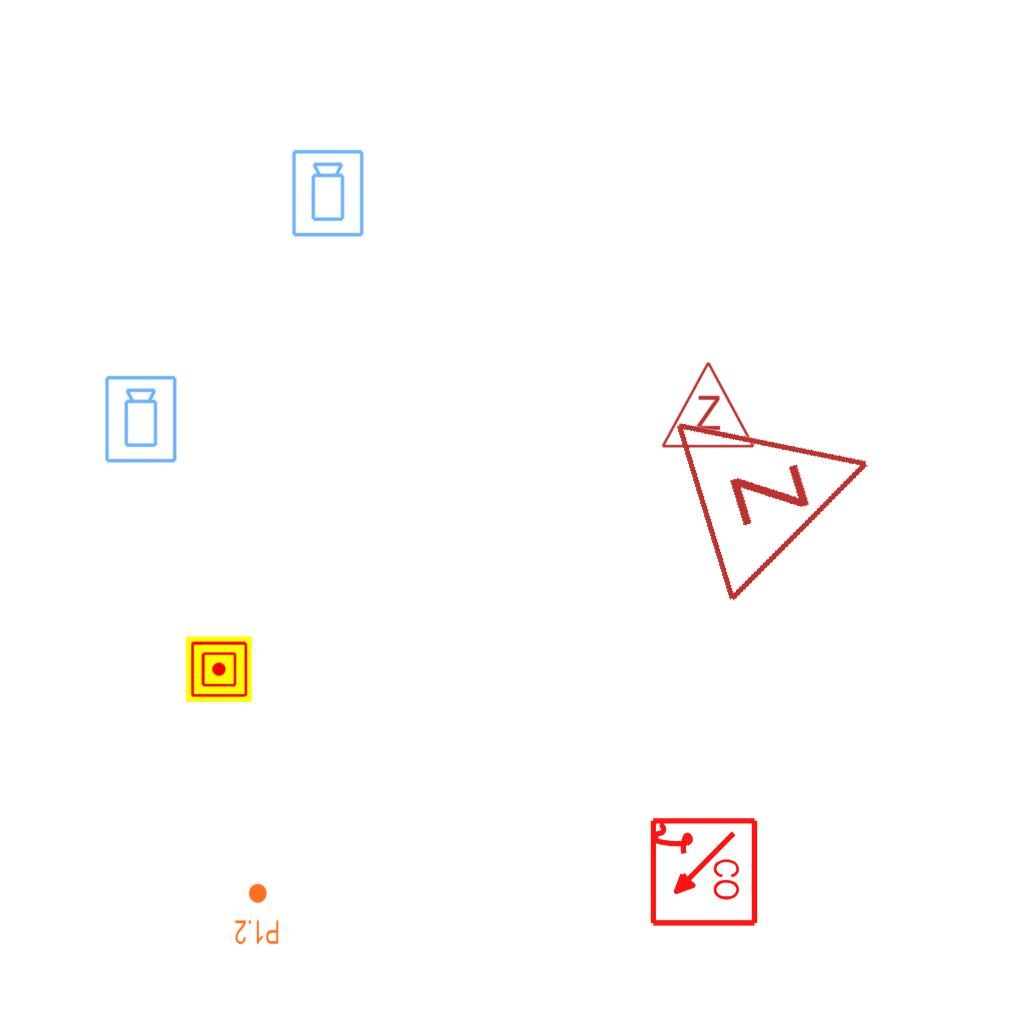Downlight_LED_Einbauleuchten_Flur: (234, 882, 280, 946)
KFO_Kamera_mit_Festobjektiv: (290, 148, 367, 239), (103, 374, 180, 465)
NAM-Nichtautomatischer_Melder: (186, 636, 252, 702)
ROA_Rauchmelder_optisch_mit_Signalgeber_(Sockelsirene): (646, 816, 759, 929)
Zimmersignalleuchte: (659, 363, 909, 609), (658, 355, 756, 455)
